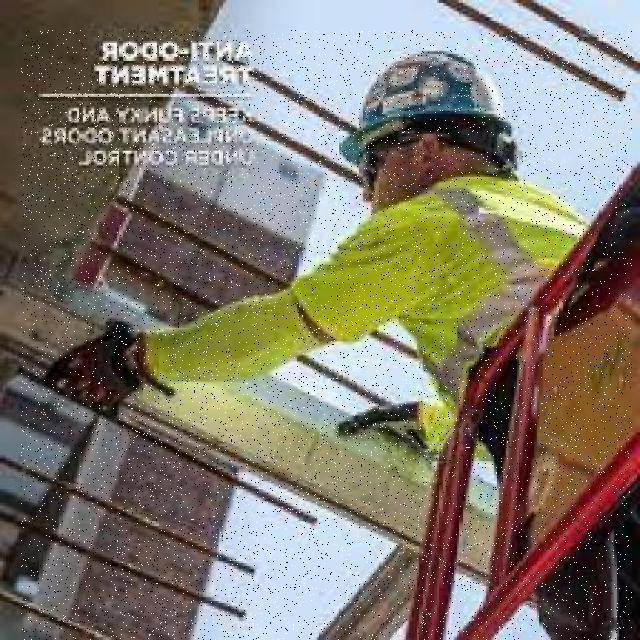helmet: (338, 48, 524, 160)
safety_vest: (294, 175, 597, 460)
